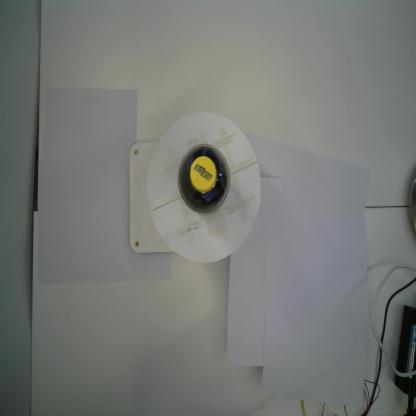Drink: (178, 142, 231, 216)
